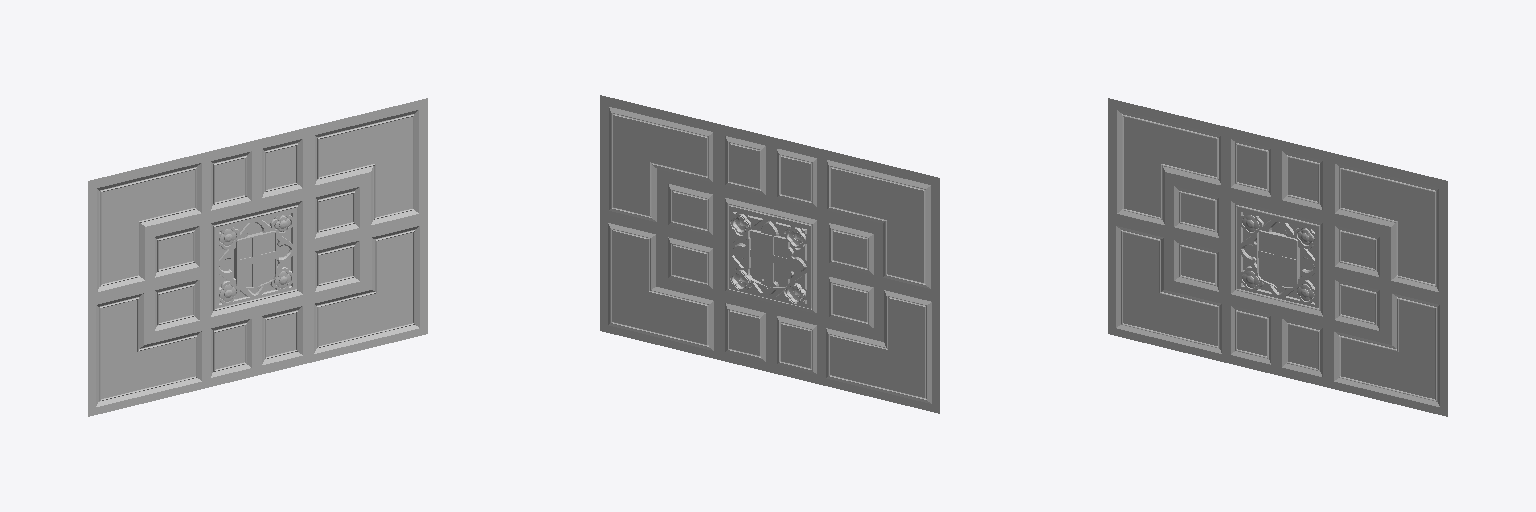
The model's file is Template.006.obj.
3 views of the same model, side by side, from view 1: azimuth 30°, elevation 25°; view 2: azimuth 150°, elevation 25°; view 3: azimuth 330°, elevation 25° (orthographic).
Parts seen in each view (by area): view 1: Template.006_Template.007; view 2: Template.006_Template.007; view 3: Template.006_Template.007.
Boxes of the visible parts, box(x1,y1,x2,y2) form: Template.006_Template.007: box(88, 98, 427, 416); Template.006_Template.007: box(600, 95, 939, 413); Template.006_Template.007: box(1108, 98, 1447, 416).
Bounding box in the file's own units: 1.6 × 1.06 × 0.0342.